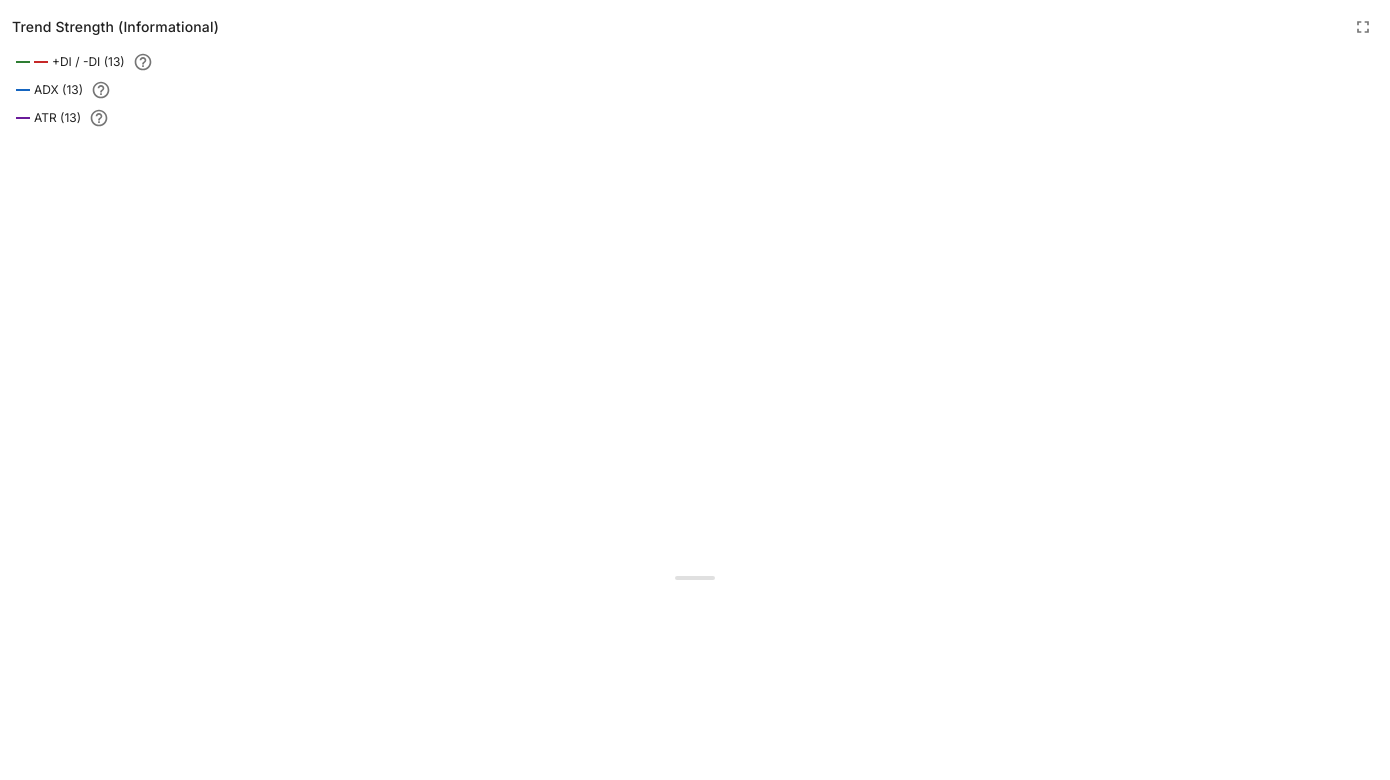
TrendStrengthChart › opens the ATR MetricHelp balloon stating the current value and the 1-ATR stop-distance rule
Click the button named "ATR (13) help". click: click(99, 118)
box: left=89, top=108, right=109, bottom=128
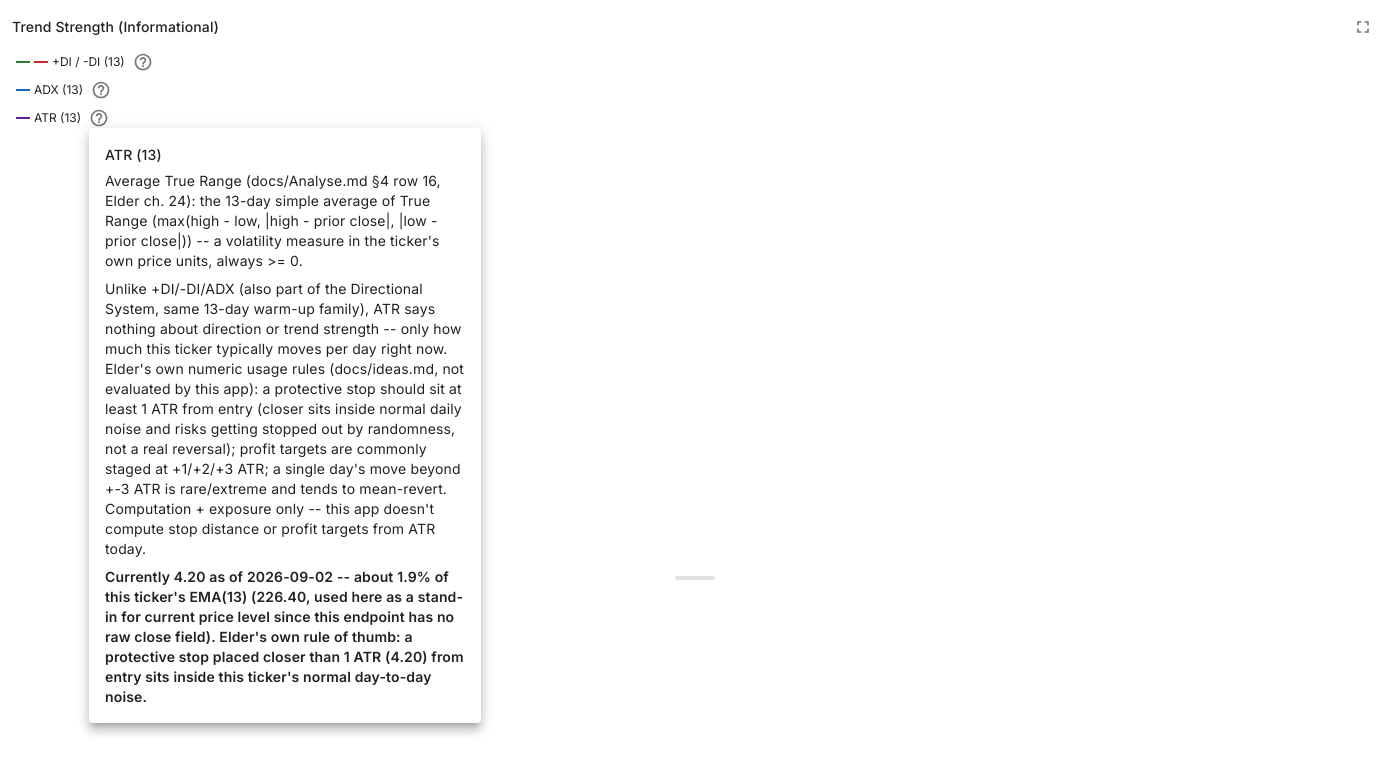
Check: the text "closer than 1 ATR" is shown, box left=105, top=568, right=464, bottom=705
